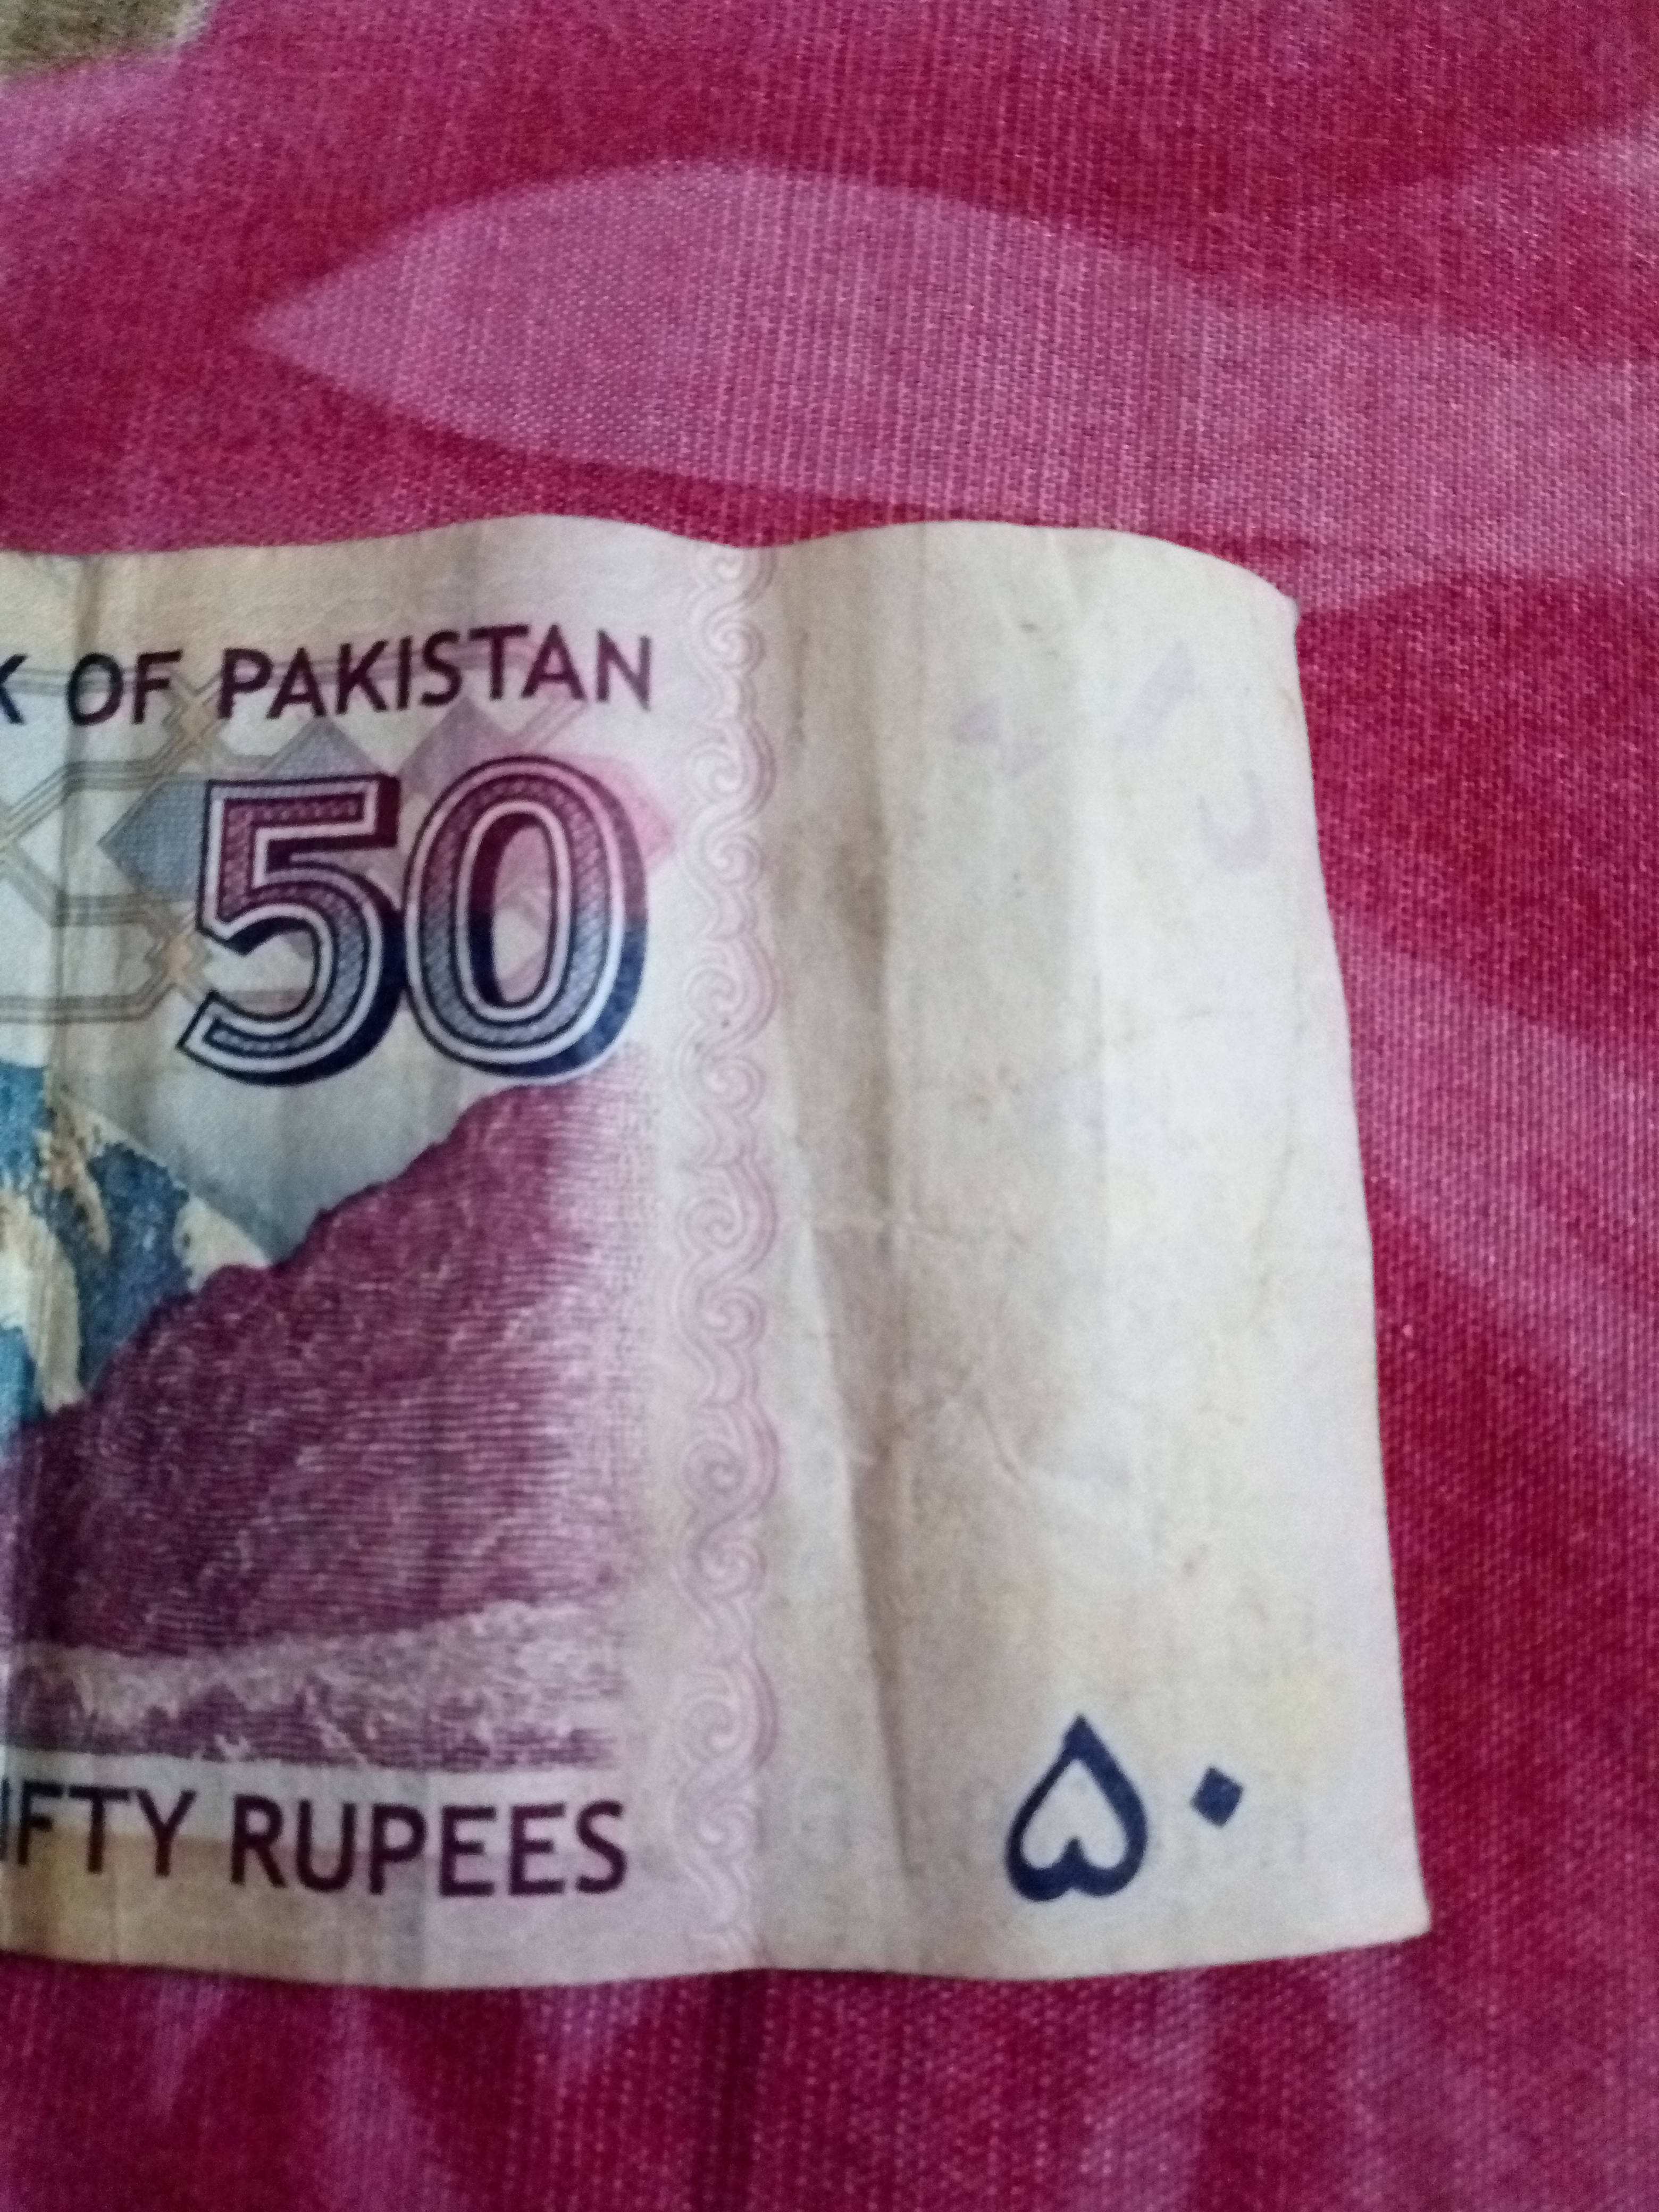50 rupee: (10, 484, 1521, 2013), (943, 1604, 1385, 1963)
